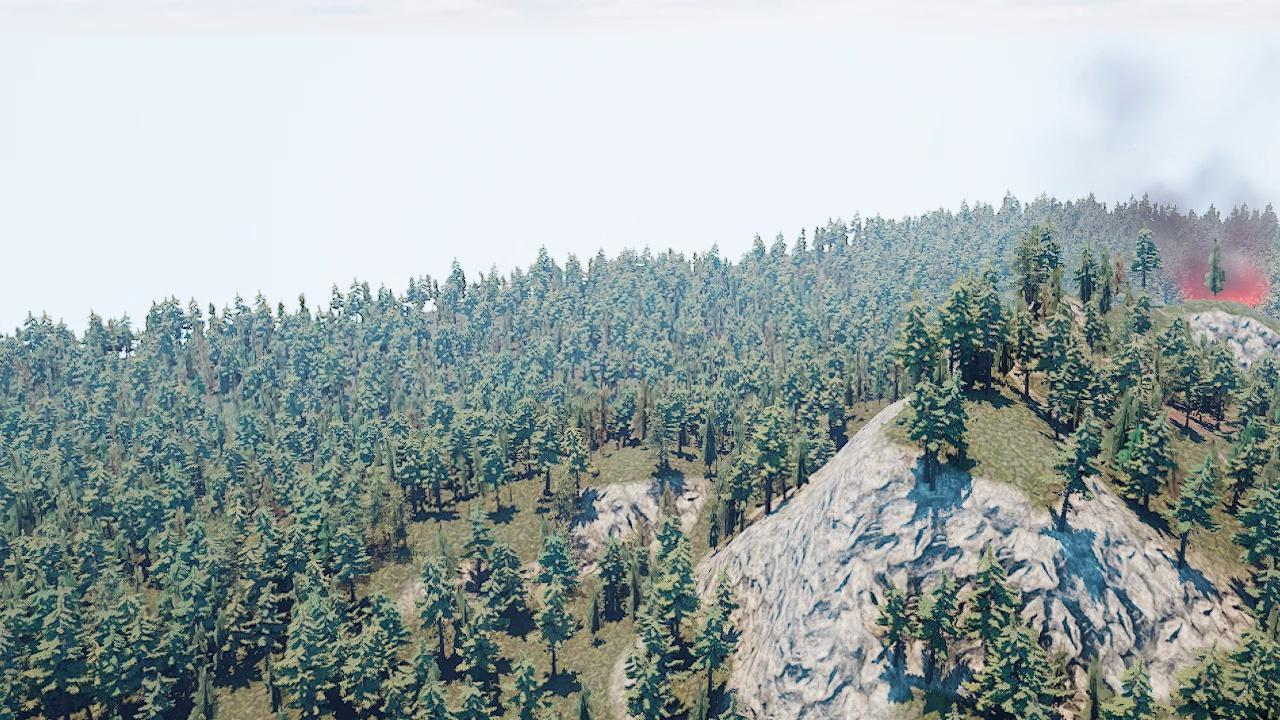smoke: (1083, 37, 1273, 310)
